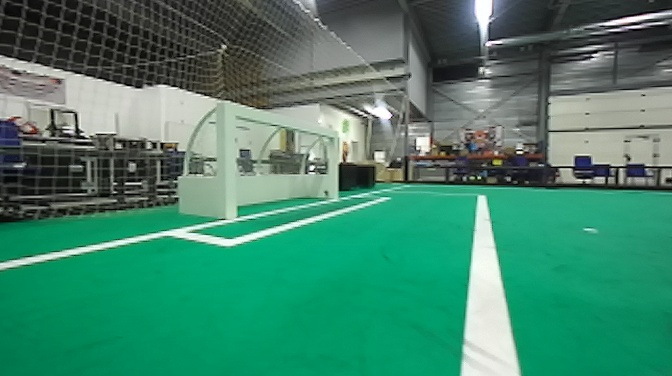goalpost: (214, 96, 243, 218), (321, 128, 344, 197)
